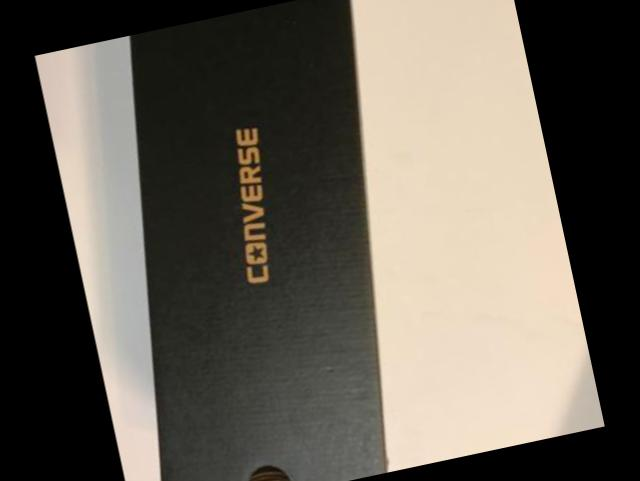cardboard paper: (129, 0, 384, 481)
